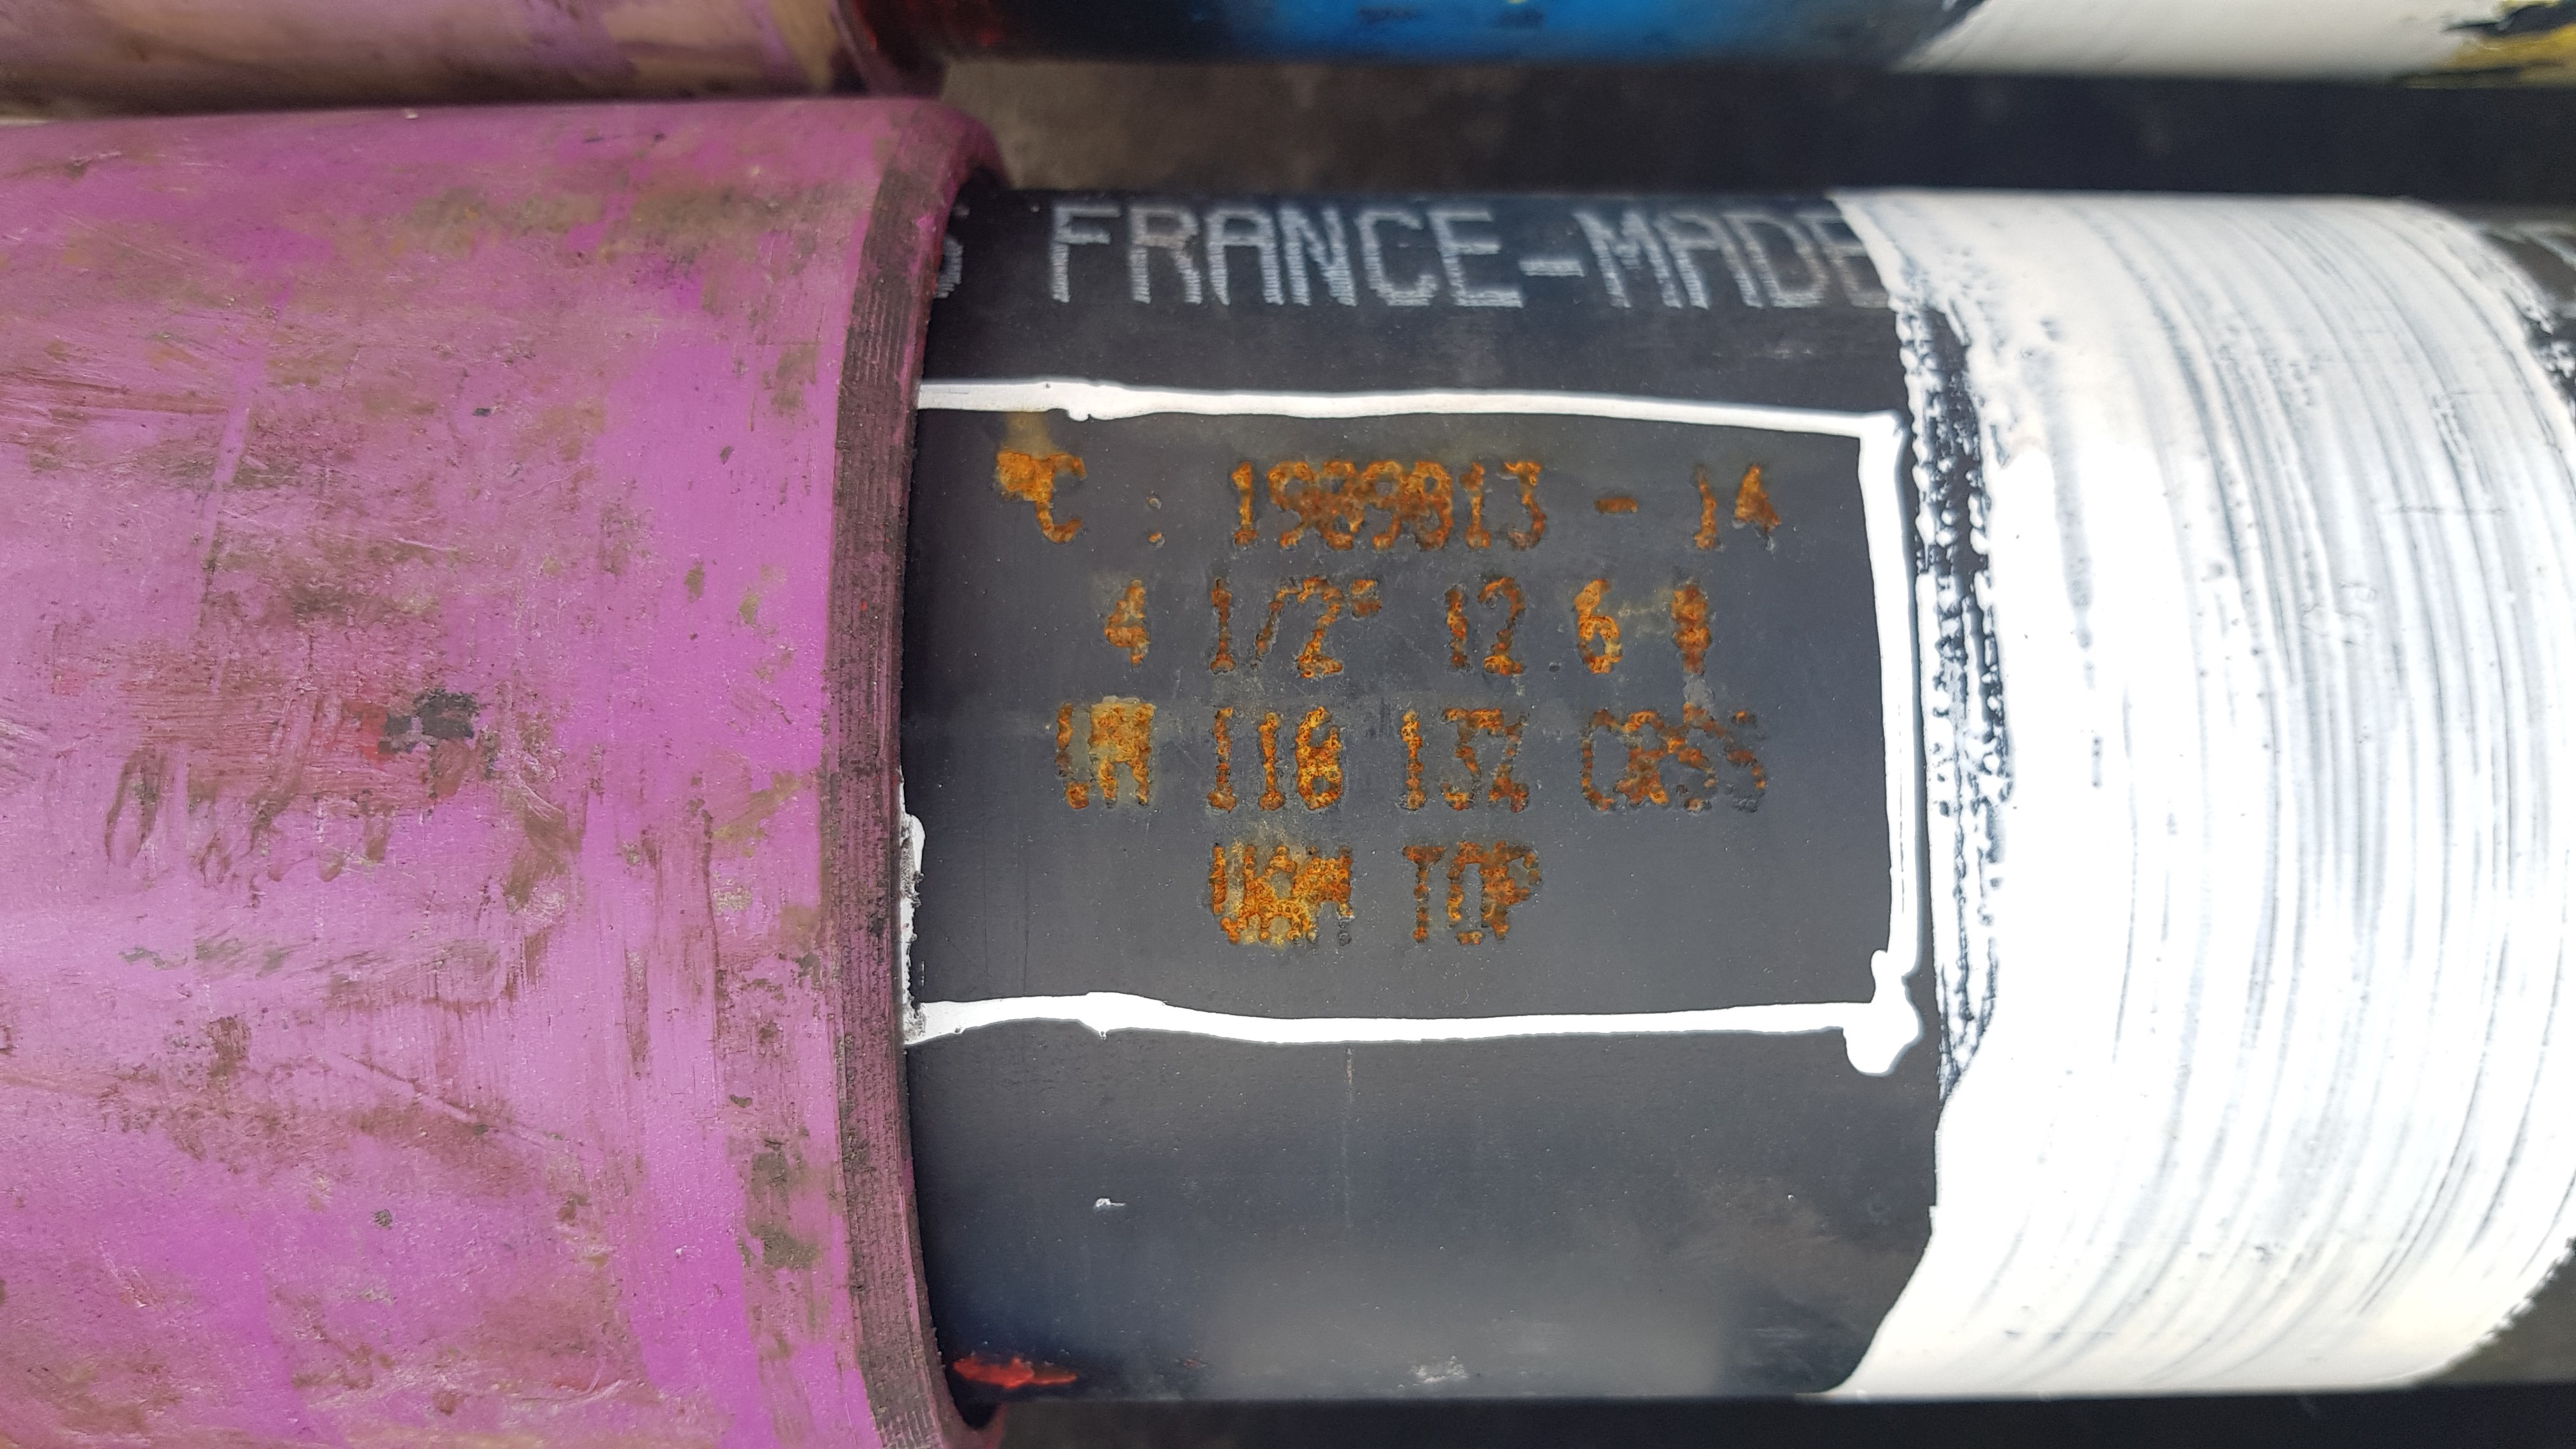character: (1472, 575, 1539, 681), (1198, 839, 1261, 950), (1617, 704, 1677, 821), (1667, 701, 1725, 821), (1300, 844, 1364, 950), (1295, 704, 1352, 823), (1486, 840, 1548, 948), (1569, 577, 1633, 679), (1720, 706, 1776, 816), (1295, 571, 1350, 681), (1481, 708, 1534, 817), (1444, 837, 1495, 950), (1261, 458, 1320, 557), (1495, 458, 1555, 554), (1201, 704, 1251, 817), (1396, 839, 1449, 943), (1444, 701, 1486, 826), (1313, 456, 1364, 557), (1396, 708, 1440, 823), (1407, 458, 1456, 559), (1734, 464, 1787, 557), (1265, 844, 1311, 952), (1214, 456, 1265, 552), (1580, 709, 1626, 816), (1106, 577, 1159, 667), (1361, 456, 1408, 556), (1681, 462, 1730, 557), (1435, 589, 1486, 679), (1203, 575, 1244, 683), (1254, 708, 1293, 819), (1249, 582, 1295, 671), (1458, 460, 1495, 557), (1589, 483, 1647, 520)
